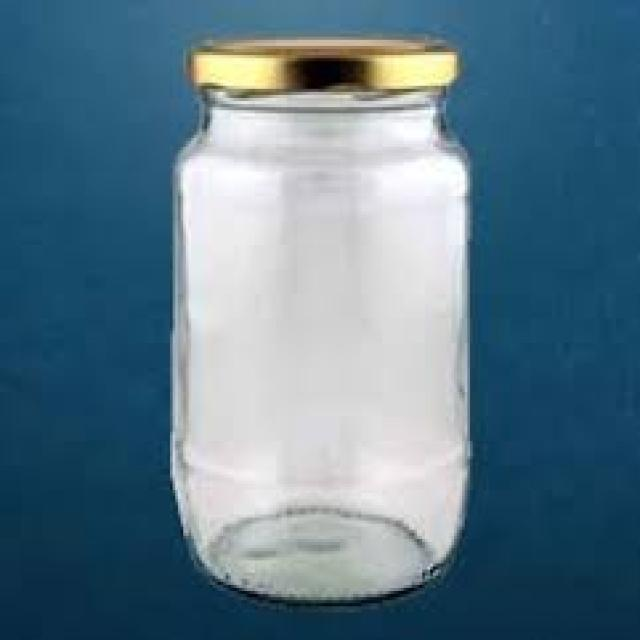glass: (168, 86, 468, 603)
metal: (183, 34, 457, 89)
